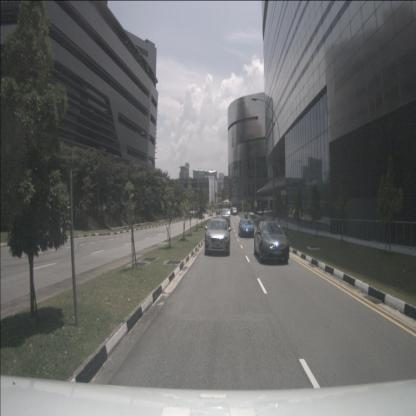vehicle-car: (254, 220, 289, 264), (205, 218, 230, 255), (238, 217, 255, 238), (221, 208, 230, 227), (232, 207, 237, 215)
